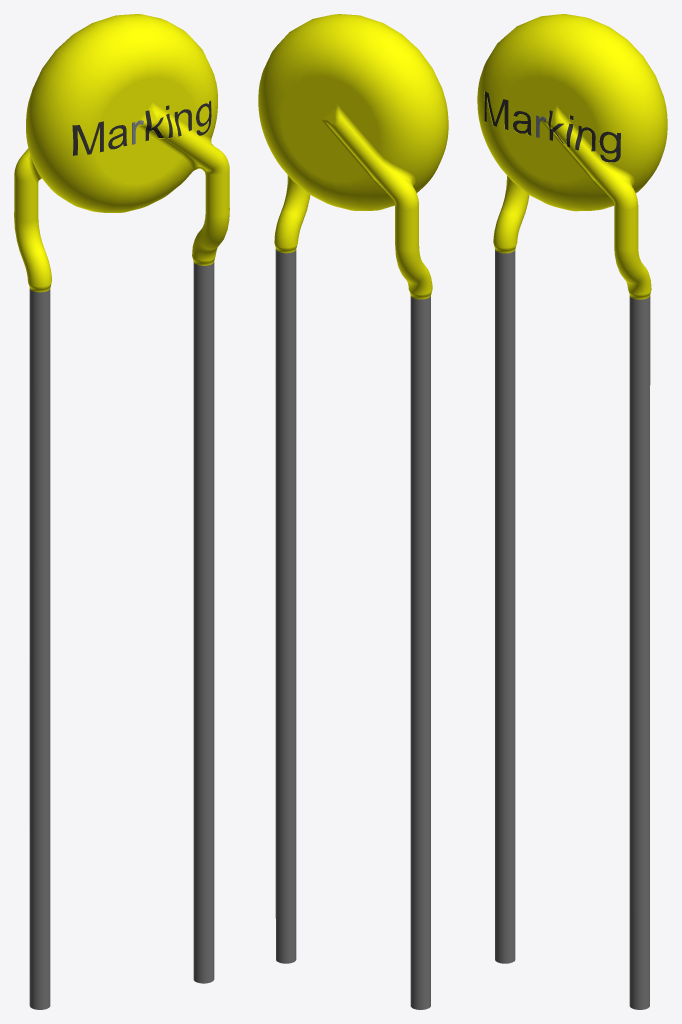
The model's file is WE-VD Disk Varistor.gltf.
The picture shows the model from 3 angles, left to right: view 1: azimuth 30°, elevation 25°; view 2: azimuth 150°, elevation 25°; view 3: azimuth 330°, elevation 25°; orthographic projection.
Parts seen in each view (by area): view 1: 820551406; view 2: 820551406; view 3: 820551406.
Part boxes in pixels (x1,y1,x2,y2): 820551406: (14, 14, 229, 1009); 820551406: (258, 14, 448, 1009); 820551406: (477, 14, 667, 1009).
Size of the model in its own units: 0.006 by 0.031 by 0.0031.
